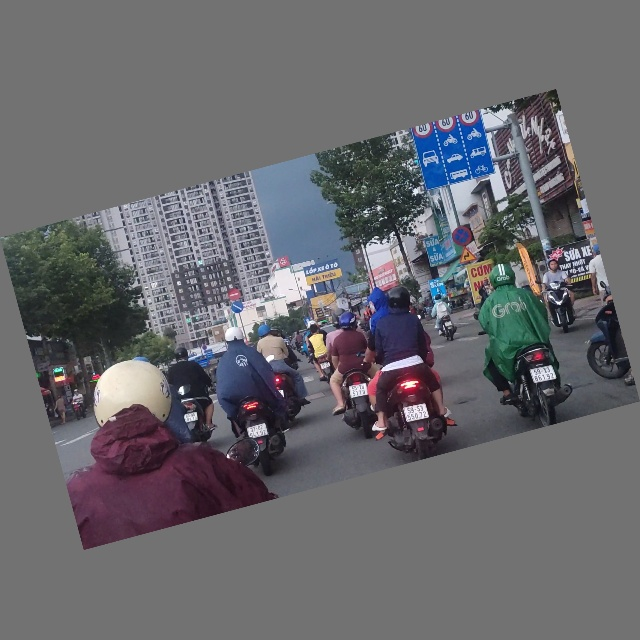I.434a: (361, 297, 369, 306)
P.102: (227, 288, 241, 303)
P.127*60: (435, 117, 458, 135), (459, 111, 482, 128), (413, 123, 434, 140)
P.130: (450, 224, 475, 249)
R.302a: (230, 300, 245, 315)
R.415a: (414, 125, 497, 192)
W.202b: (456, 244, 478, 265)
